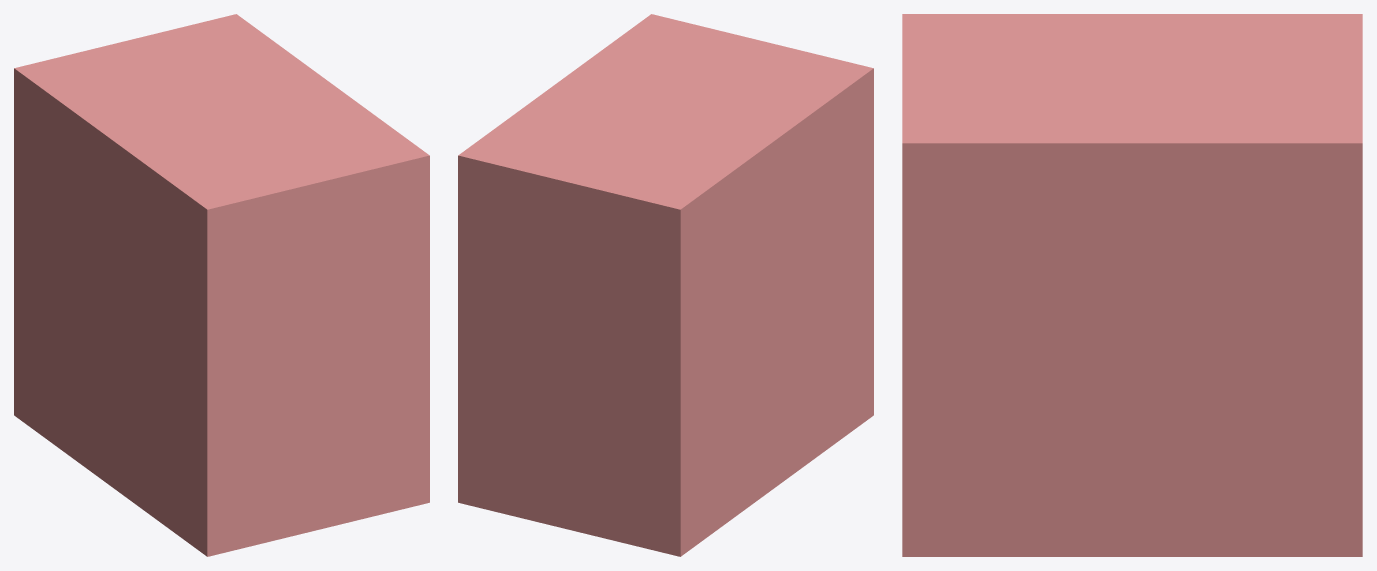
Rendered from square.glb.
The picture shows the model from 3 angles, left to right: view 1: azimuth 30°, elevation 25°; view 2: azimuth 150°, elevation 25°; view 3: azimuth 270°, elevation 25°; orthographic projection. The views are drawn at different scales.
Visible parts, largest first — view 1: Body1; view 2: Body1; view 3: Body1.
Part boxes in pixels (x1,y1,x2,y2): Body1: [14, 14, 429, 556]; Body1: [458, 14, 873, 556]; Body1: [902, 14, 1362, 556].
Bounding box in the file's own units: 0.0864 × 0.1289 × 0.1301.
